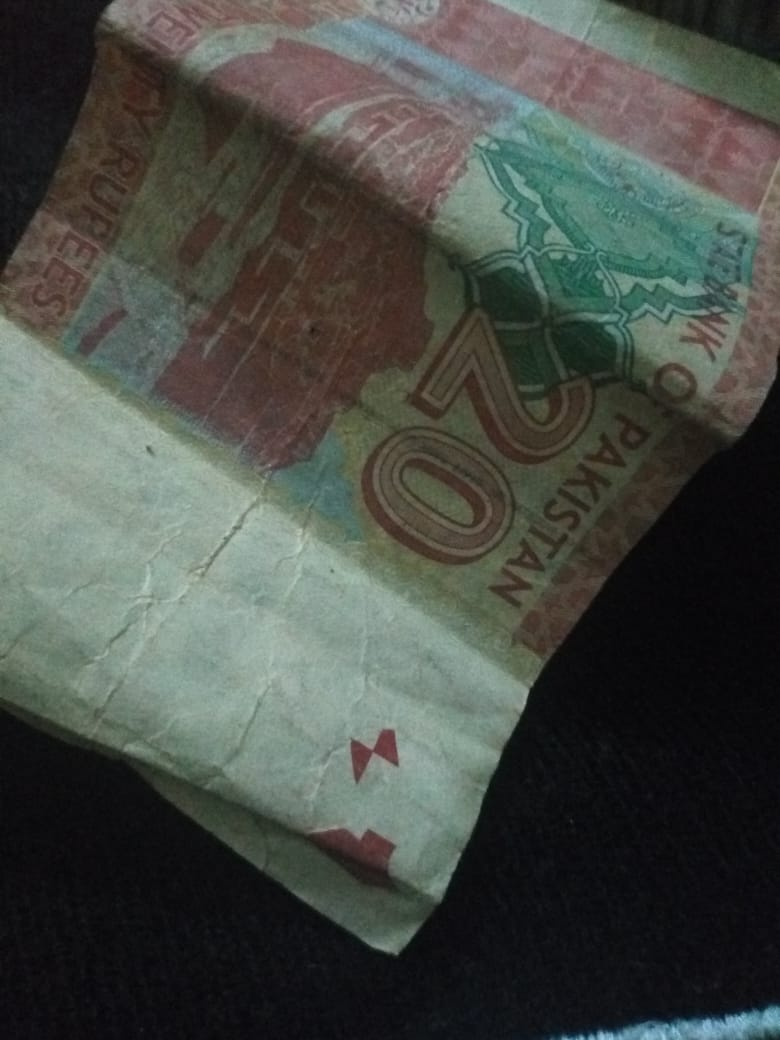20 rupee: (25, 22, 777, 1040)
